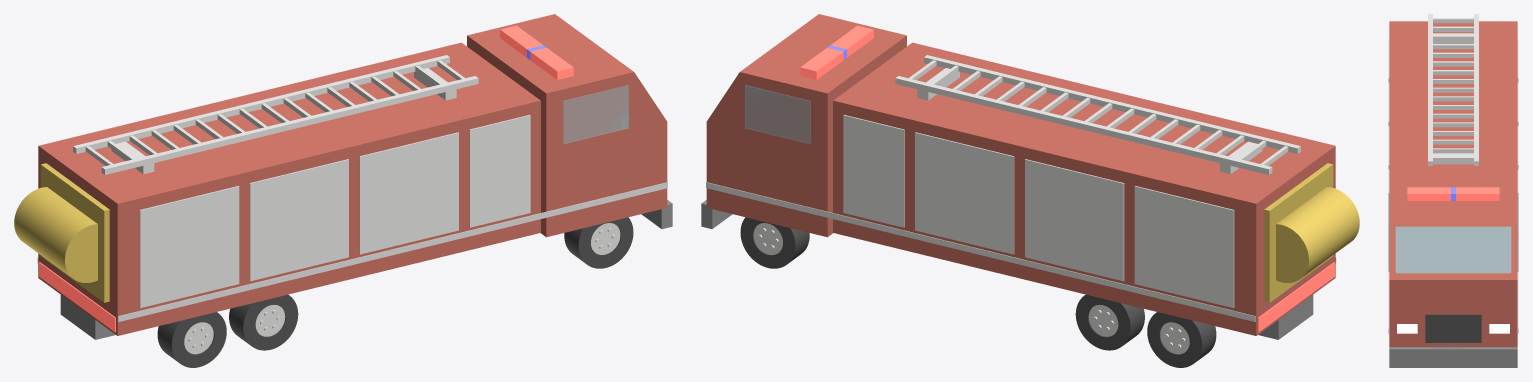
The model's file is fire-truck.glb.
The picture shows the model from 3 angles, left to right: view 1: azimuth 30°, elevation 25°; view 2: azimuth 150°, elevation 25°; view 3: azimuth 270°, elevation 25°; orthographic projection. The views are drawn at different scales.
Parts seen in each view (by area): view 1: body, locker-doors, cab, ladder, hose-reel, white-stripe, cab-windows, wheel-3r-tire, wheel-2r-tire, wheel-1r-tire, light-bar, chassis (+4 smaller); view 2: body, locker-doors, cab, ladder, hose-reel, white-stripe, cab-windows, wheel-3l-tire, wheel-2l-tire, wheel-1l-tire, light-bar, chassis (+4 smaller); view 3: cab, body, ladder, cab-windows, chassis, grille, light-bar, locker-doors, headlights, white-stripe.
Boxes of the visible parts, x1,y1,x2,y2 form: body: (38, 42, 540, 335); locker-doors: (139, 115, 530, 307); cab: (467, 14, 667, 237); ladder: (73, 55, 478, 174); hose-reel: (14, 163, 109, 302); white-stripe: (37, 182, 667, 321); cab-windows: (563, 85, 628, 144); wheel-3r-tire: (157, 312, 226, 367); wheel-2r-tire: (229, 294, 298, 350); wheel-1r-tire: (564, 217, 633, 268); light-bar: (500, 25, 573, 79); chassis: (60, 200, 672, 339); body: (833, 42, 1335, 335); locker-doors: (843, 115, 1234, 307); cab: (706, 14, 906, 237); ladder: (895, 55, 1300, 174); hose-reel: (1264, 163, 1359, 302); white-stripe: (706, 182, 1336, 321); cab-windows: (745, 85, 810, 144); wheel-3l-tire: (1147, 312, 1216, 367); wheel-2l-tire: (1075, 294, 1144, 350); wheel-1l-tire: (740, 217, 809, 268); light-bar: (800, 25, 873, 79); chassis: (701, 200, 1313, 339); cab: (1389, 185, 1517, 347); body: (1389, 21, 1517, 185); ladder: (1428, 14, 1478, 165); cab-windows: (1389, 201, 1517, 273); chassis: (1389, 345, 1517, 367); grille: (1425, 314, 1481, 342); light-bar: (1407, 187, 1499, 200); locker-doors: (1388, 39, 1518, 271); headlights: (1397, 324, 1509, 333); white-stripe: (1388, 272, 1518, 333).
Bounding box in the file's own units: 10.8 × 3.45 × 2.54.
